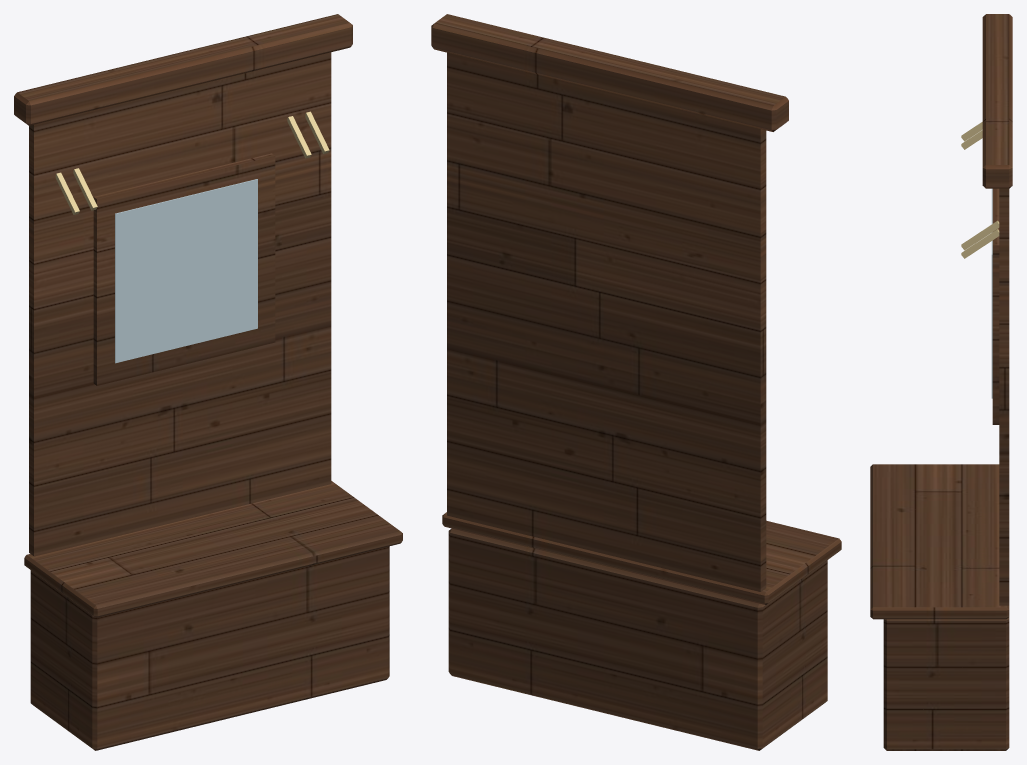
File: hall_tree.glb
The picture shows the model from 3 angles, left to right: view 1: azimuth 30°, elevation 25°; view 2: azimuth 150°, elevation 25°; view 3: azimuth 270°, elevation 25°; orthographic projection. The views are drawn at different scales.
Parts seen in each view (by area): view 1: hall_tree_dkwood, hall_tree_glass, hall_tree_brass; view 2: hall_tree_dkwood; view 3: hall_tree_dkwood, hall_tree_brass, hall_tree_glass.
Boxes of the visible parts, x1=… form: hall_tree_dkwood: x1=14, y1=14, x2=402, y2=750; hall_tree_glass: x1=115, y1=179, x2=257, y2=363; hall_tree_brass: x1=55, y1=111, x2=329, y2=214; hall_tree_dkwood: x1=431, y1=14, x2=841, y2=750; hall_tree_dkwood: x1=870, y1=14, x2=1012, y2=750; hall_tree_brass: x1=961, y1=122, x2=999, y2=258; hall_tree_glass: x1=991, y1=188, x2=992, y2=398.
Size of the model in its own units: 1.1 by 1.98 by 0.43.
Materials: 3 (1 with a texture image).
